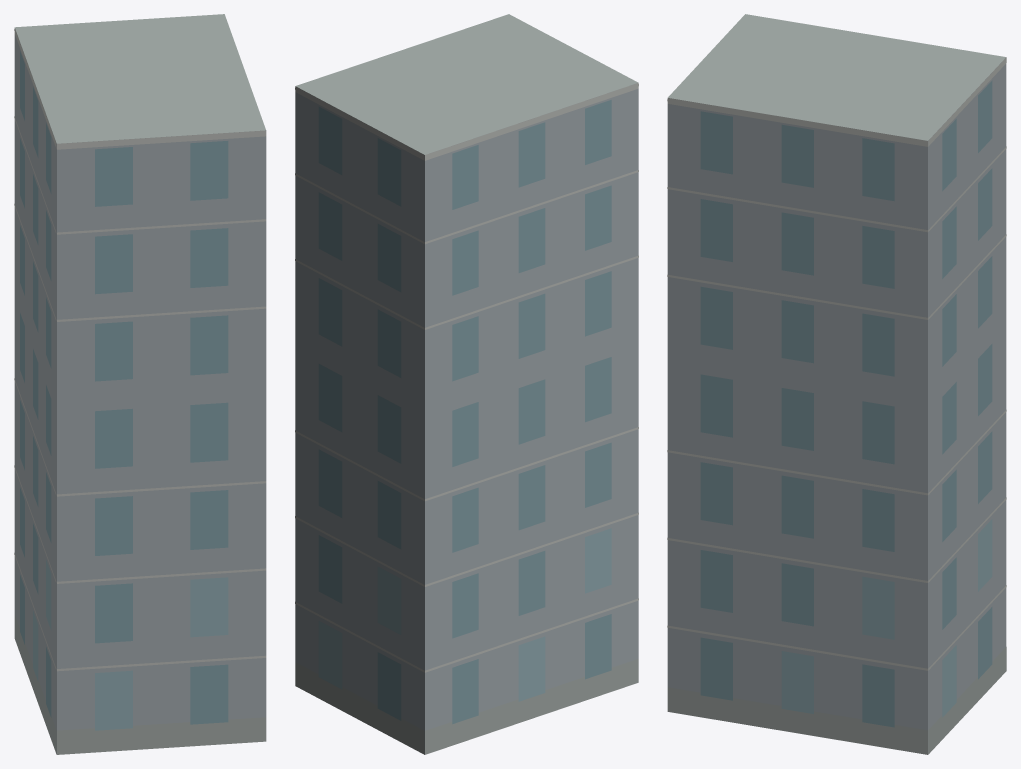
The model's file is survey-upis-32899199.glb.
3 views of the same model, side by side, from view 1: azimuth 30°, elevation 25°; view 2: azimuth 150°, elevation 25°; view 3: azimuth 270°, elevation 25° (orthographic). The views are drawn at different scales.
Parts seen in each view (by area): view 1: survey-upis-32899199.tmp; view 2: survey-upis-32899199.tmp; view 3: survey-upis-32899199.tmp.
Boxes of the visible parts, x1=… form: survey-upis-32899199.tmp: x1=14, y1=14, x2=266, y2=754; survey-upis-32899199.tmp: x1=295, y1=14, x2=638, y2=754; survey-upis-32899199.tmp: x1=667, y1=14, x2=1006, y2=754.
Bounding box in the file's own units: 11.02 × 24.8 × 12.43.
